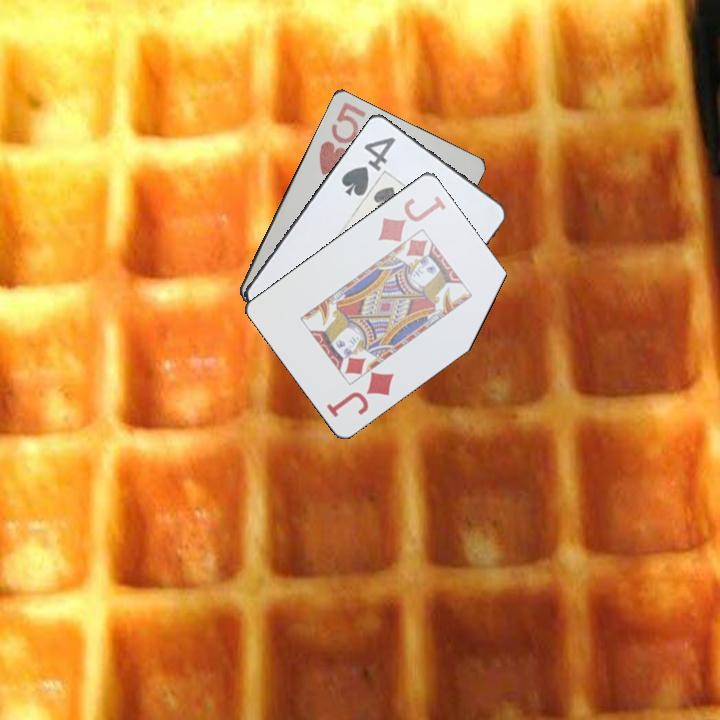4s: (337, 133, 399, 199)
5h: (315, 98, 369, 178)
Jd: (374, 191, 449, 244), (323, 368, 397, 420)
